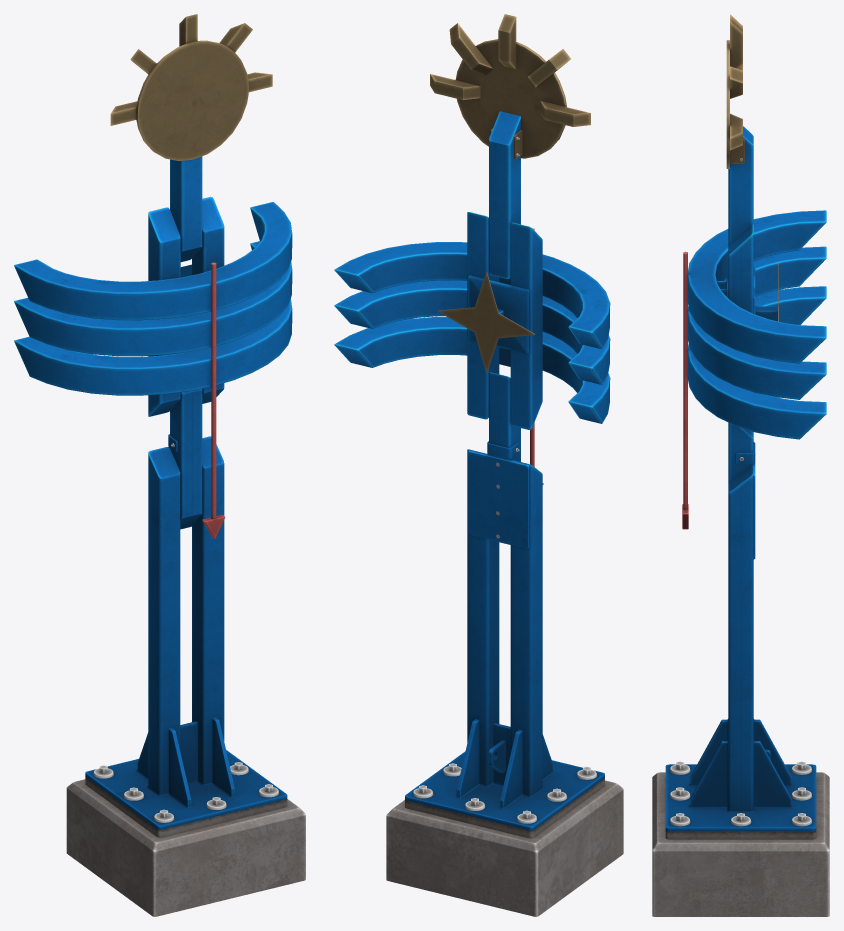
Rendered from Sun.glb.
3 views of the same model, side by side, from view 1: azimuth 30°, elevation 25°; view 2: azimuth 150°, elevation 25°; view 3: azimuth 270°, elevation 25° (orthographic).
Visible parts, largest first — view 1: Sun; view 2: Sun; view 3: Sun.
Boxes of the visible parts, x1,y1,x2,y2 form: Sun: [14, 14, 305, 916]; Sun: [334, 14, 623, 916]; Sun: [652, 14, 829, 916].
Size of the model in its own units: 1.81 by 5.7 by 1.07.
Materials: 1 (1 with a texture image).
